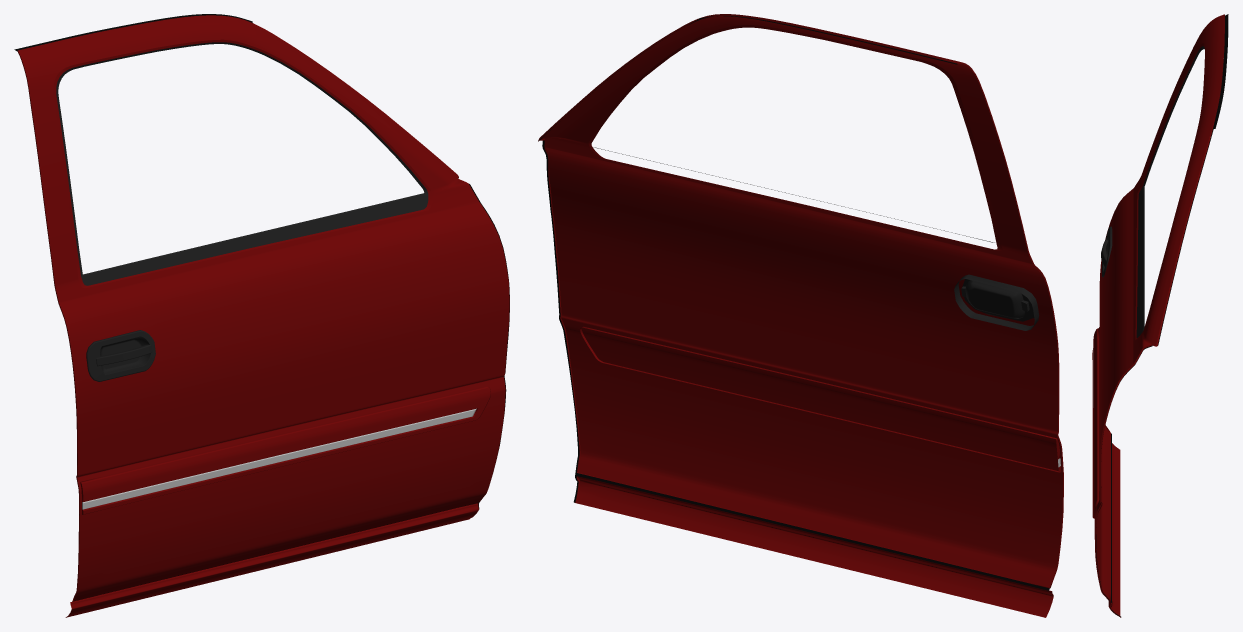
3 renders of one model, left to right at view 1: azimuth 30°, elevation 25°; view 2: azimuth 150°, elevation 25°; view 3: azimuth 270°, elevation 25°, orthographic. The views are drawn at different scales.
Visible parts, largest first — view 1: U805_4A_281B_R_4_DaS_U805_4A_281B_R, U805_4A_281B_R_U805_4A_281B_R_2_DaS, U805_4A_281B_R_U805_4A_281B_R_5_D, U805_4A_281B_R_4_DaS_U805_4A_281B_R_E, U805_4A_281B_R_U805_4A_281B_R_3_DaS, U805_4A_281B_R_U805_4A_281B_R_1_D, U805_4A_281B_R_U805_4A_281B_R_2_DaS_E, U805_4A_281B_R_U805_4A_281B_R_6_D; view 2: U805_4A_281B_R_4_DaS_U805_4A_281B_R, U805_4A_281B_R_4_DaS_U805_4A_281B_R_E, U805_4A_281B_R_U805_4A_281B_R_1_D, U805_4A_281B_R_U805_4A_281B_R_6_D, U805_4A_281B_R_U805_4A_281B_R_2_DaS_E; view 3: U805_4A_281B_R_4_DaS_U805_4A_281B_R, U805_4A_281B_R_4_DaS_U805_4A_281B_R_E, U805_4A_281B_R_U805_4A_281B_R_5_D, U805_4A_281B_R_U805_4A_281B_R_6_D, U805_4A_281B_R_U805_4A_281B_R_2_DaS, U805_4A_281B_R_U805_4A_281B_R_2_DaS_E, U805_4A_281B_R_U805_4A_281B_R_1_D.
Boxes of the visible parts, box(x1,y1,x2,y2) form: U805_4A_281B_R_4_DaS_U805_4A_281B_R: box(18, 15, 509, 617); U805_4A_281B_R_U805_4A_281B_R_2_DaS: box(81, 386, 490, 514); U805_4A_281B_R_U805_4A_281B_R_5_D: box(56, 42, 428, 285); U805_4A_281B_R_4_DaS_U805_4A_281B_R_E: box(17, 39, 503, 602); U805_4A_281B_R_U805_4A_281B_R_3_DaS: box(82, 408, 476, 509); U805_4A_281B_R_U805_4A_281B_R_1_D: box(86, 330, 155, 381); U805_4A_281B_R_U805_4A_281B_R_2_DaS_E: box(80, 386, 489, 514); U805_4A_281B_R_U805_4A_281B_R_6_D: box(14, 14, 509, 601); U805_4A_281B_R_4_DaS_U805_4A_281B_R: box(542, 16, 1062, 617); U805_4A_281B_R_4_DaS_U805_4A_281B_R_E: box(538, 14, 1063, 591); U805_4A_281B_R_U805_4A_281B_R_1_D: box(954, 274, 1039, 330); U805_4A_281B_R_U805_4A_281B_R_6_D: box(539, 16, 1049, 590); U805_4A_281B_R_U805_4A_281B_R_2_DaS_E: box(580, 326, 1061, 472); U805_4A_281B_R_4_DaS_U805_4A_281B_R: box(1094, 14, 1224, 615); U805_4A_281B_R_4_DaS_U805_4A_281B_R_E: box(1094, 15, 1224, 617); U805_4A_281B_R_U805_4A_281B_R_5_D: box(1136, 46, 1204, 337); U805_4A_281B_R_U805_4A_281B_R_6_D: box(1096, 14, 1228, 616); U805_4A_281B_R_U805_4A_281B_R_2_DaS: box(1092, 328, 1097, 517); U805_4A_281B_R_U805_4A_281B_R_2_DaS_E: box(1092, 328, 1099, 518); U805_4A_281B_R_U805_4A_281B_R_1_D: box(1101, 226, 1112, 277).
Bounding box in the file's own units: 114 × 130 × 36.2.
